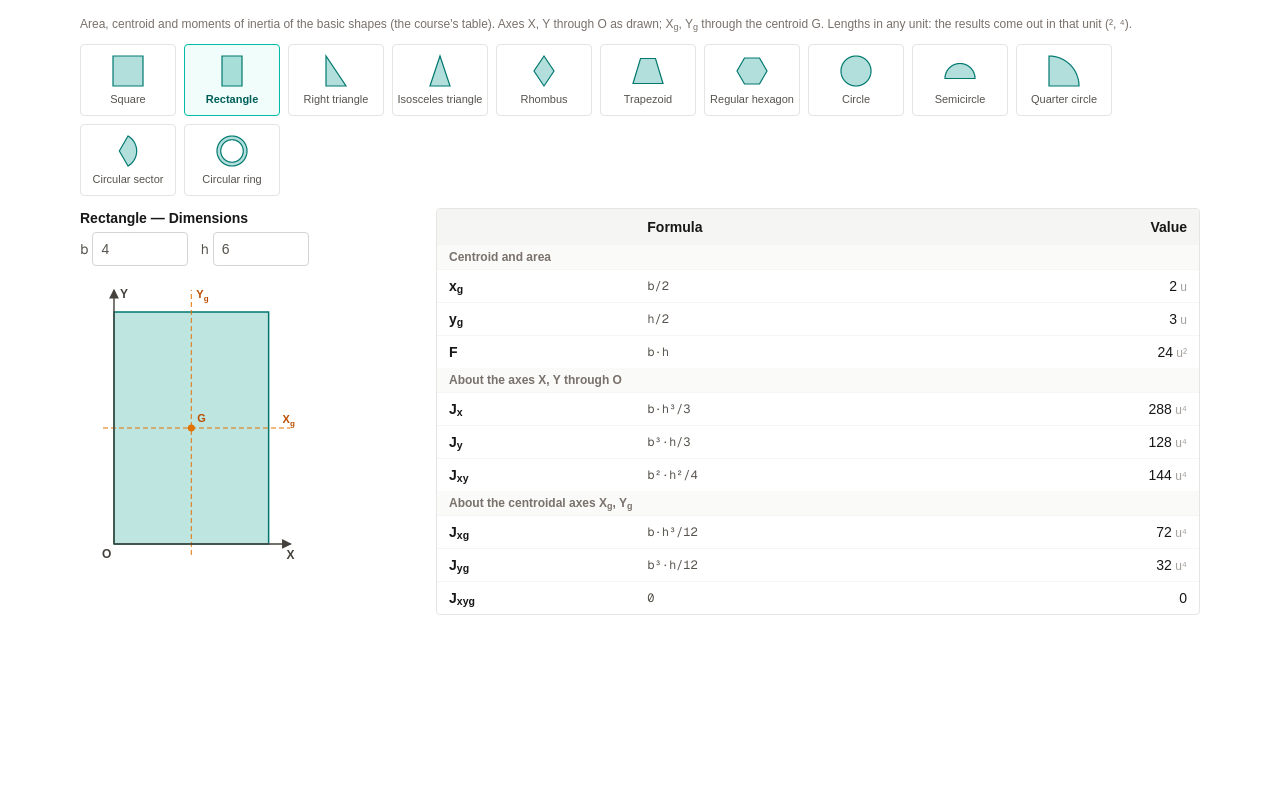
Test case: ShapeExplorer › typing new dimensions recalculates; an invalid ring (r ≥ R) shows the warning instead of numbers
Step 1. Replace the text in the field labelled "h" with "10" → (261, 248), box [213,232,309,266]
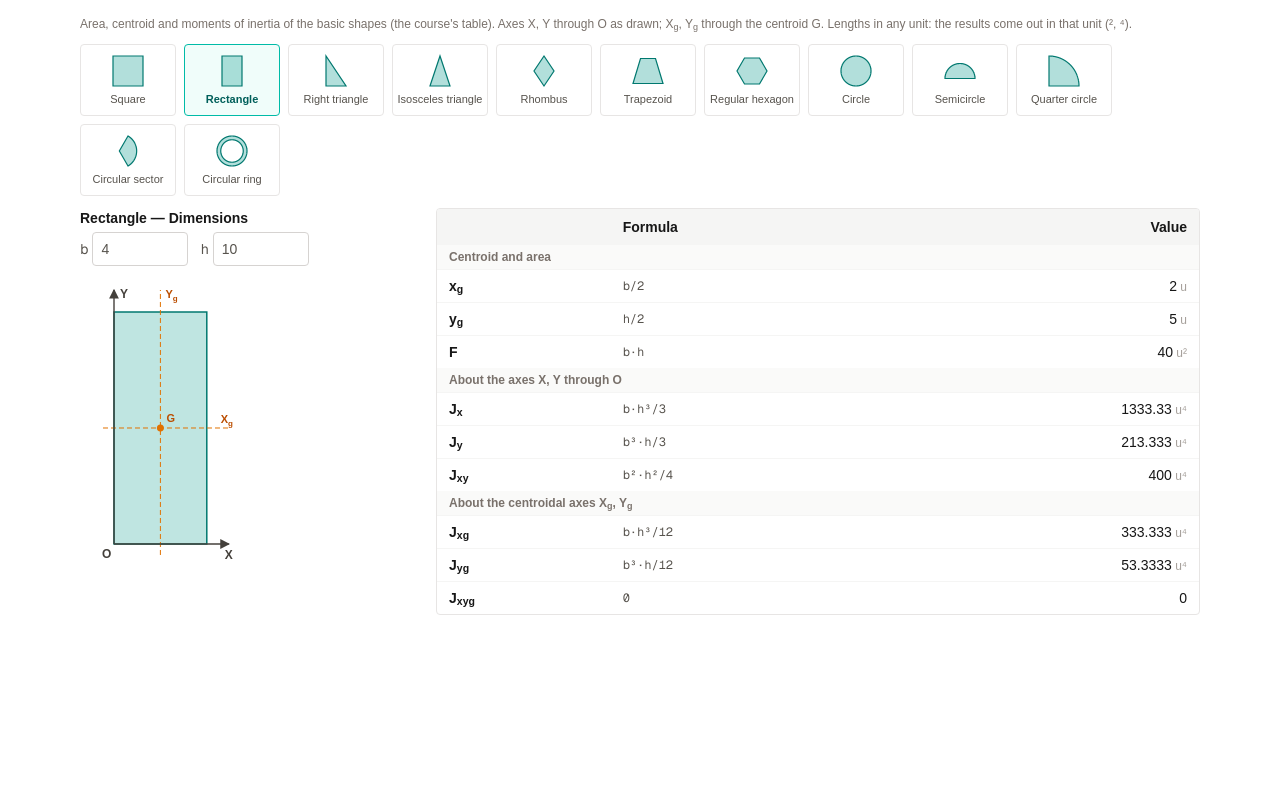
Step 2. Click the radio button with test id "shape-pick-ring" → (232, 160), box [184,124,280,196]
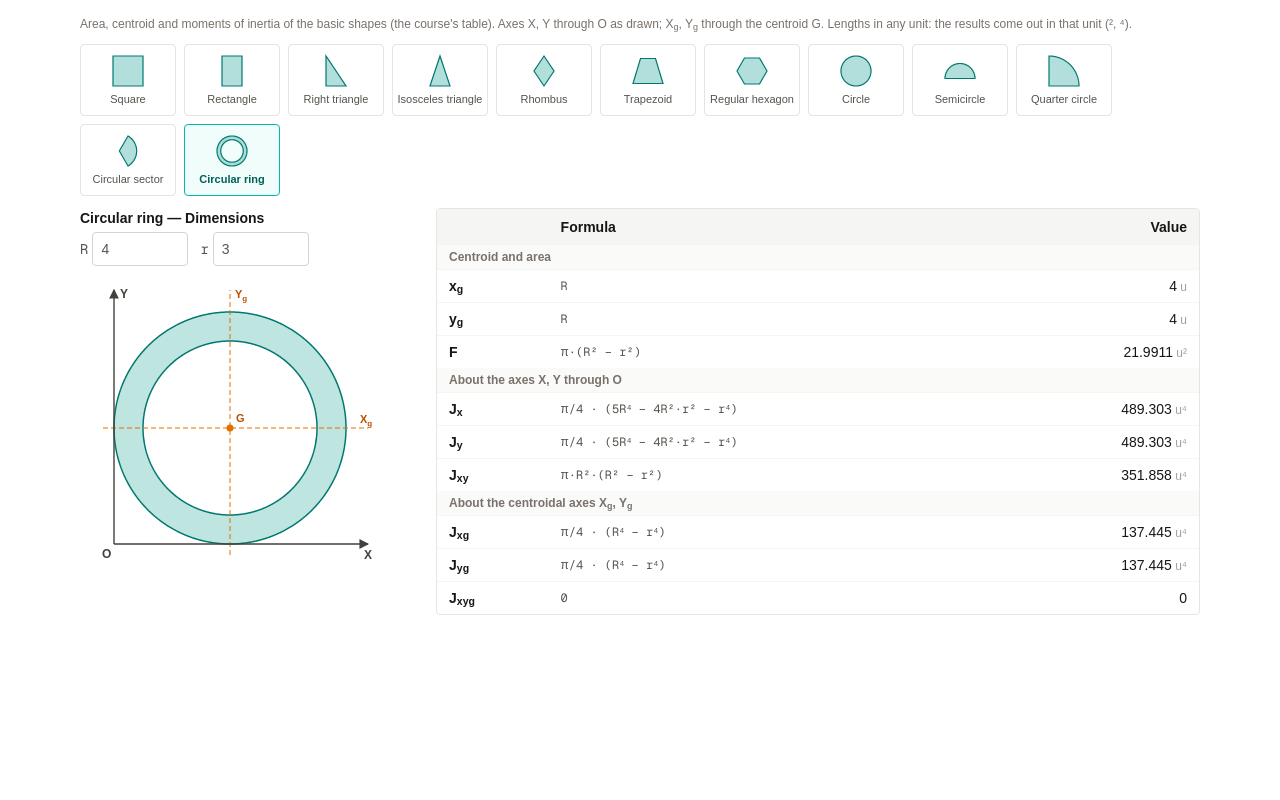
Step 3. Replace the text in the field labelled "r" with "5" → (261, 248), box [213,232,309,266]
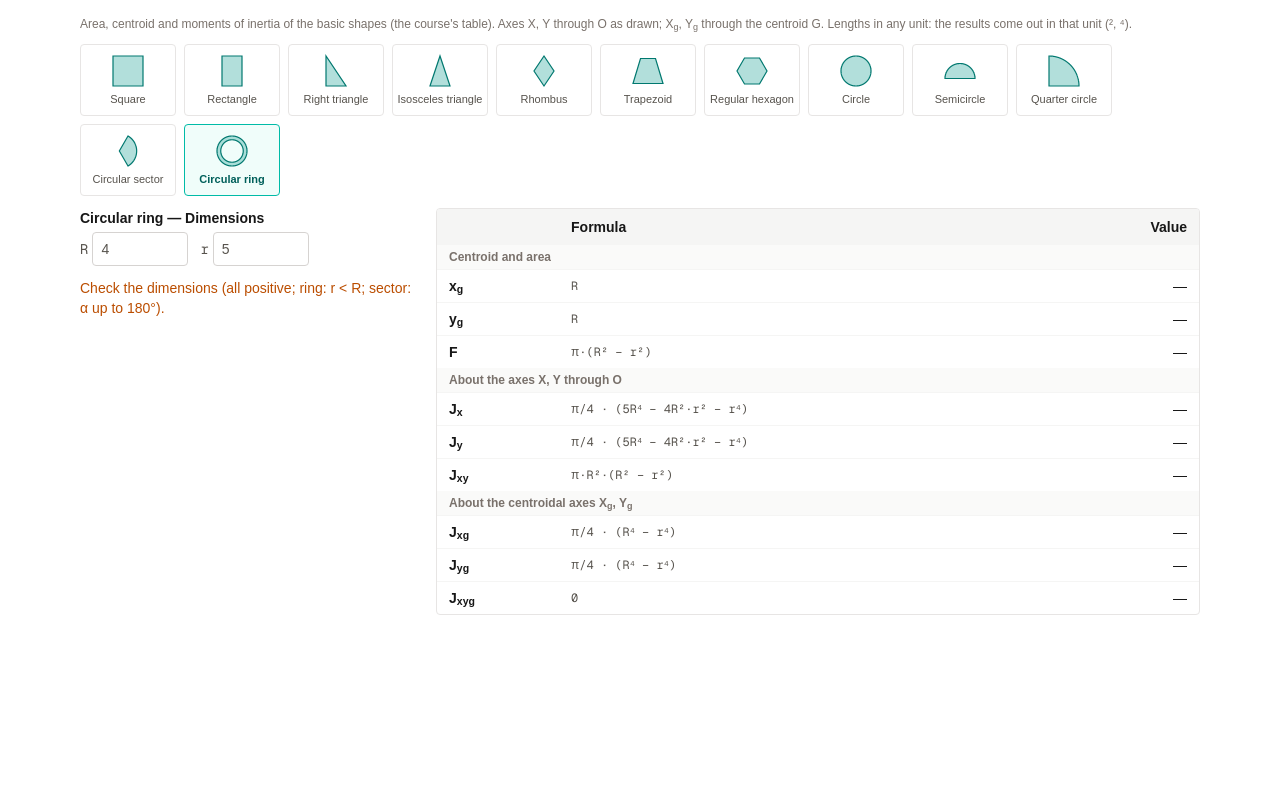
Result: the message "Check the dimensions (all positive; ring: r < R; sector: α up to 180°)." is shown at [80,278,420,318]
Result: the cell with test id "shape-val-F" reads "—" at [1173,344,1187,360]
Result: the picture with test id "shape-figure" is gone
Step 4. Replace the text in the field labelled "r" with "3" → (261, 248), box [213,232,309,266]
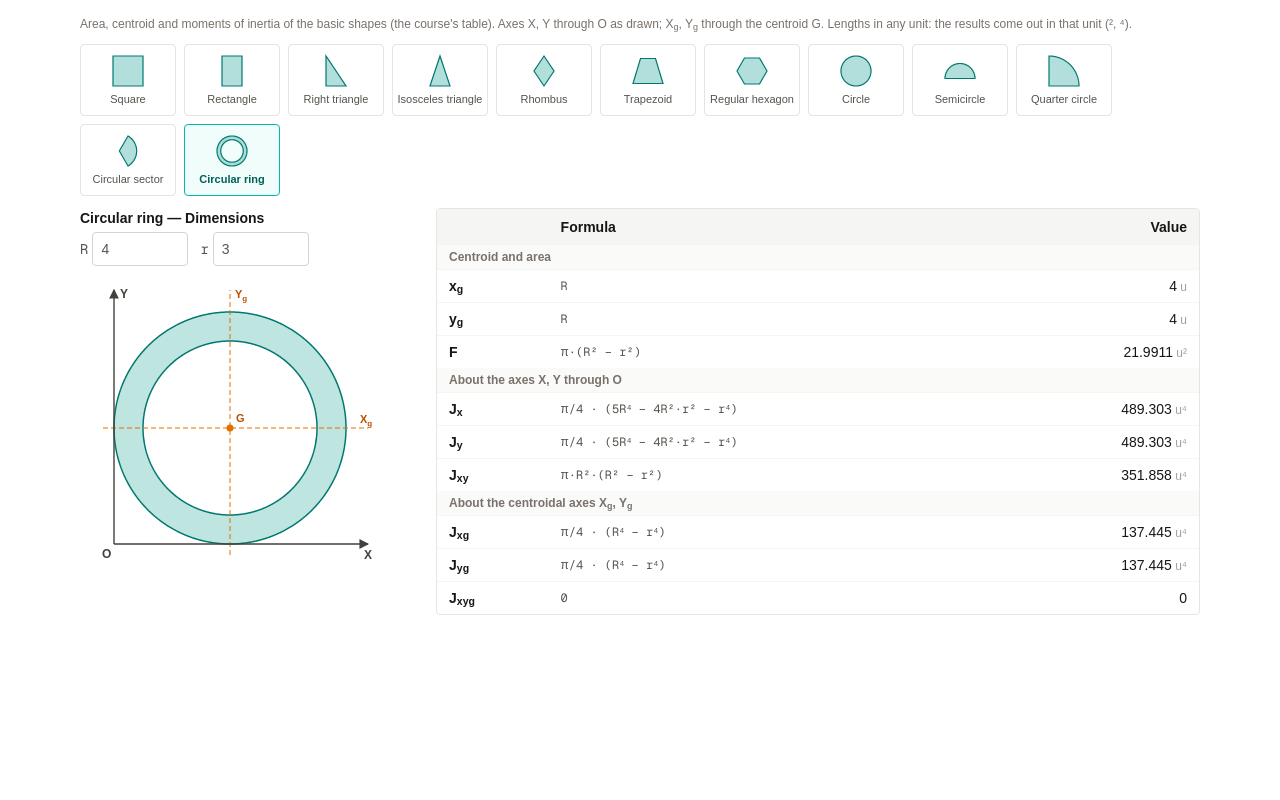
Result: the message with test id "shape-invalid" is gone
